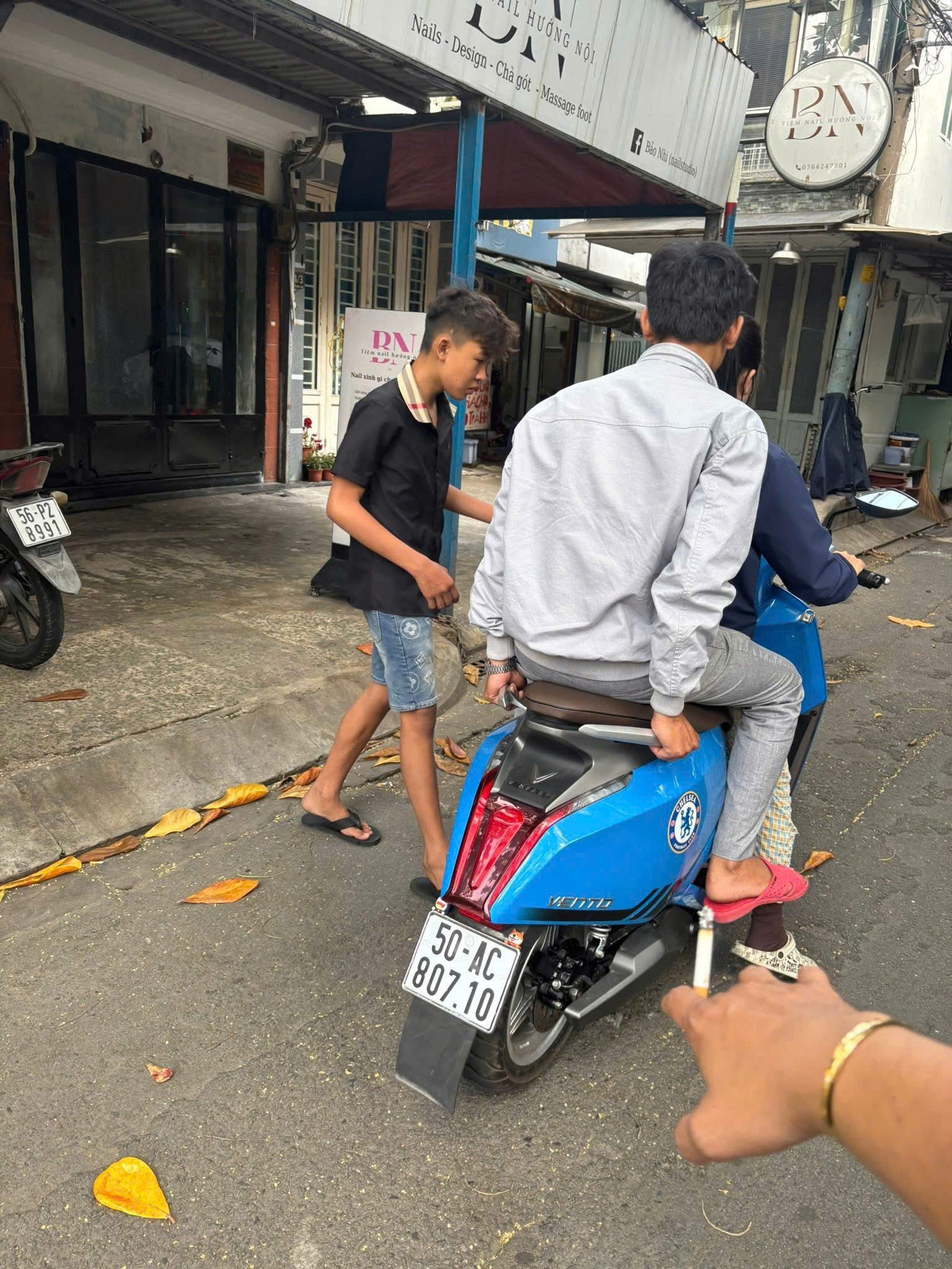Bien-so: (429, 935, 537, 1058), (37, 529, 107, 588)
